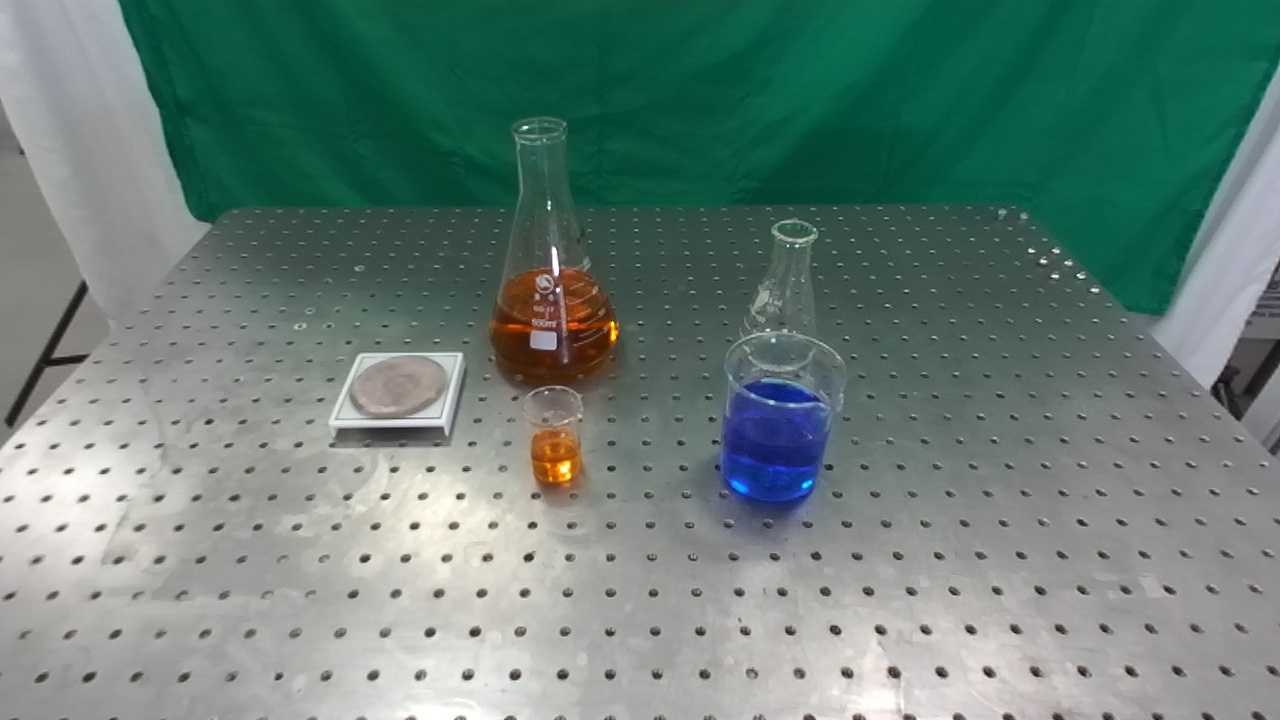glass: (482, 113, 623, 383), (717, 325, 852, 510), (736, 219, 826, 377), (520, 382, 586, 489)
plate: (327, 346, 468, 444)
